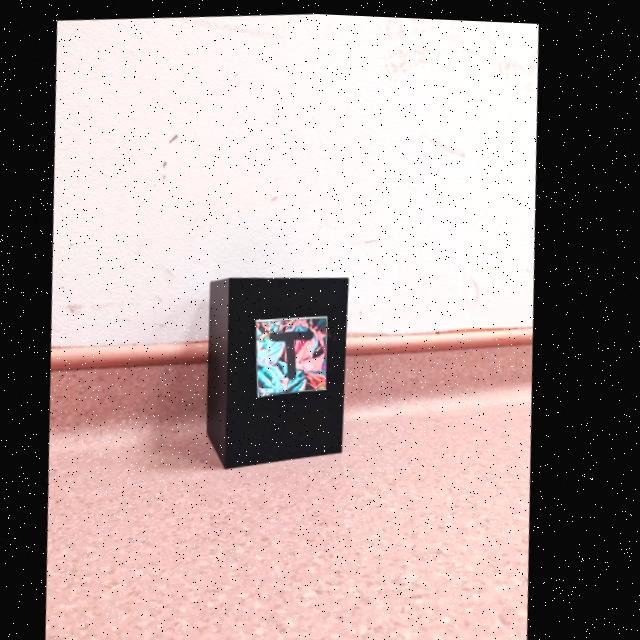T: (275, 328, 320, 378)
